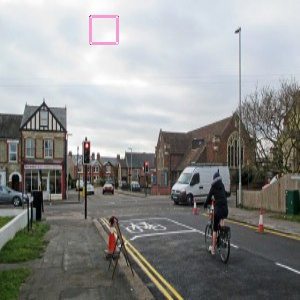square: (86, 13, 121, 48)
